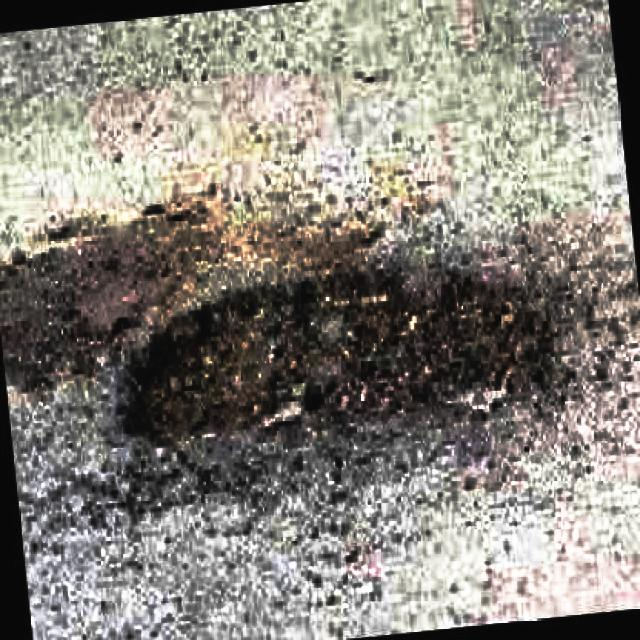pothole: (115, 277, 588, 463)
